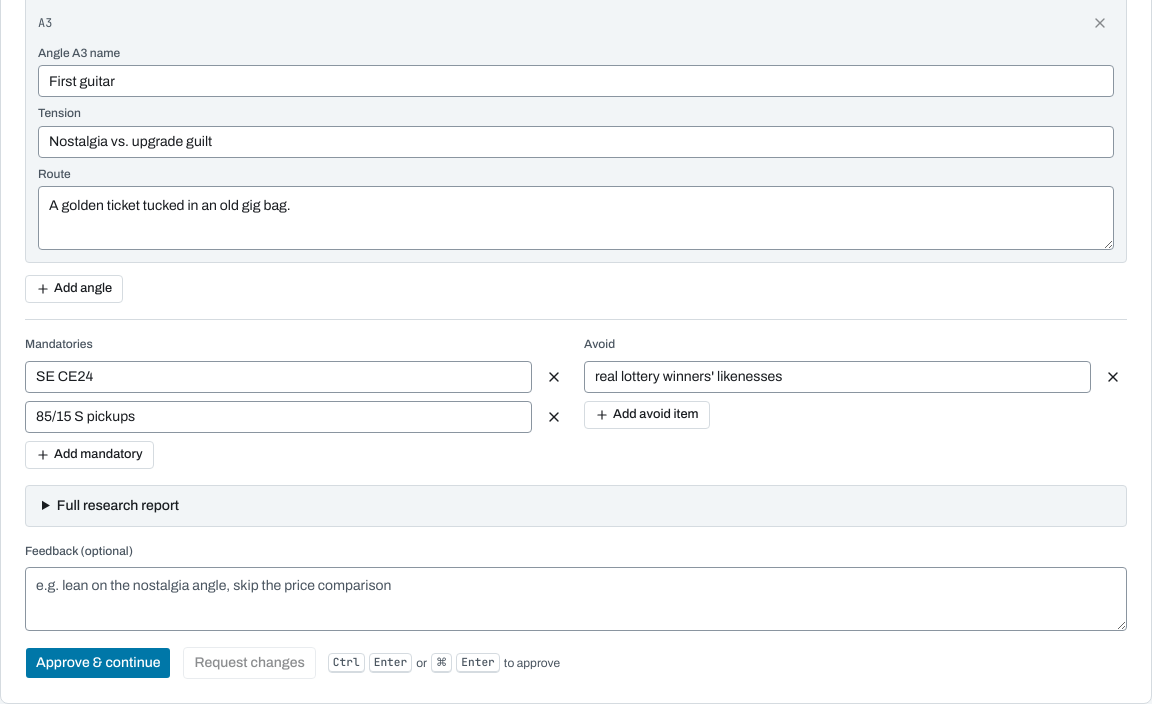
it: checkpoint 1: unchanged briefs, rejected resumes › approves an unchanged brief even when it would fail validation
(page scrolled)
Click the button "Approve & continue": (98, 663) [25,647,171,679]
(page scrolled)
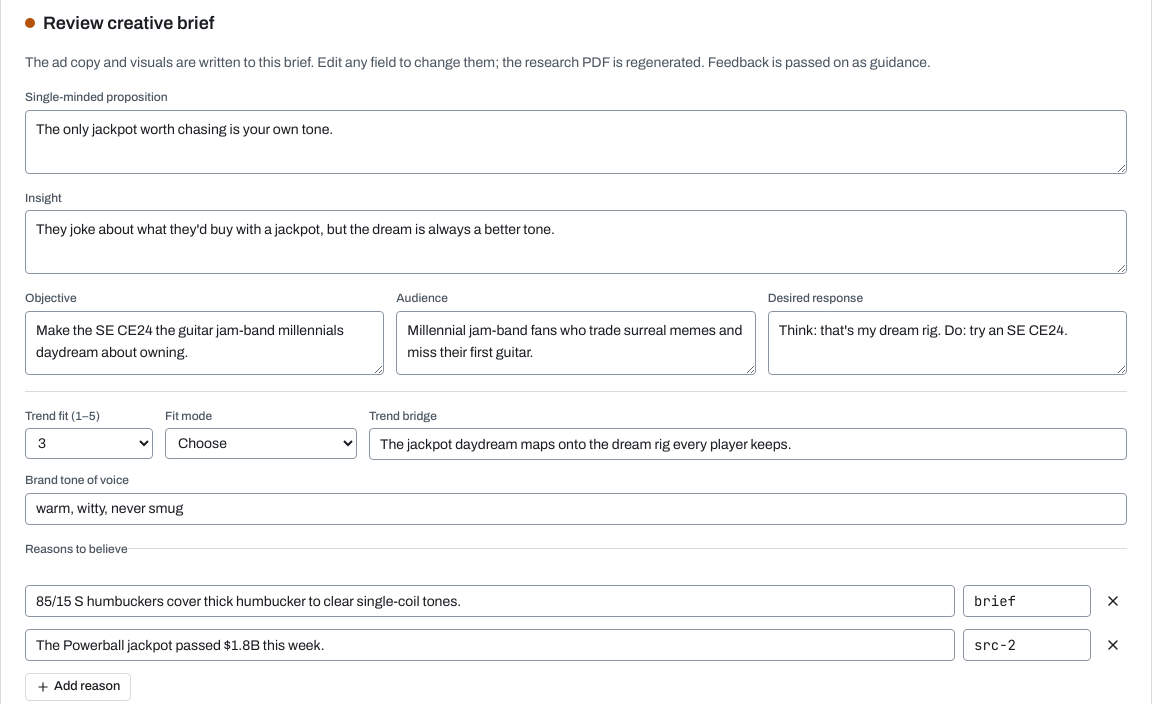
Replace the text in the text box labelled "Insight" with "New insight": (576, 242) [25,210,1127,274]
(page scrolled)
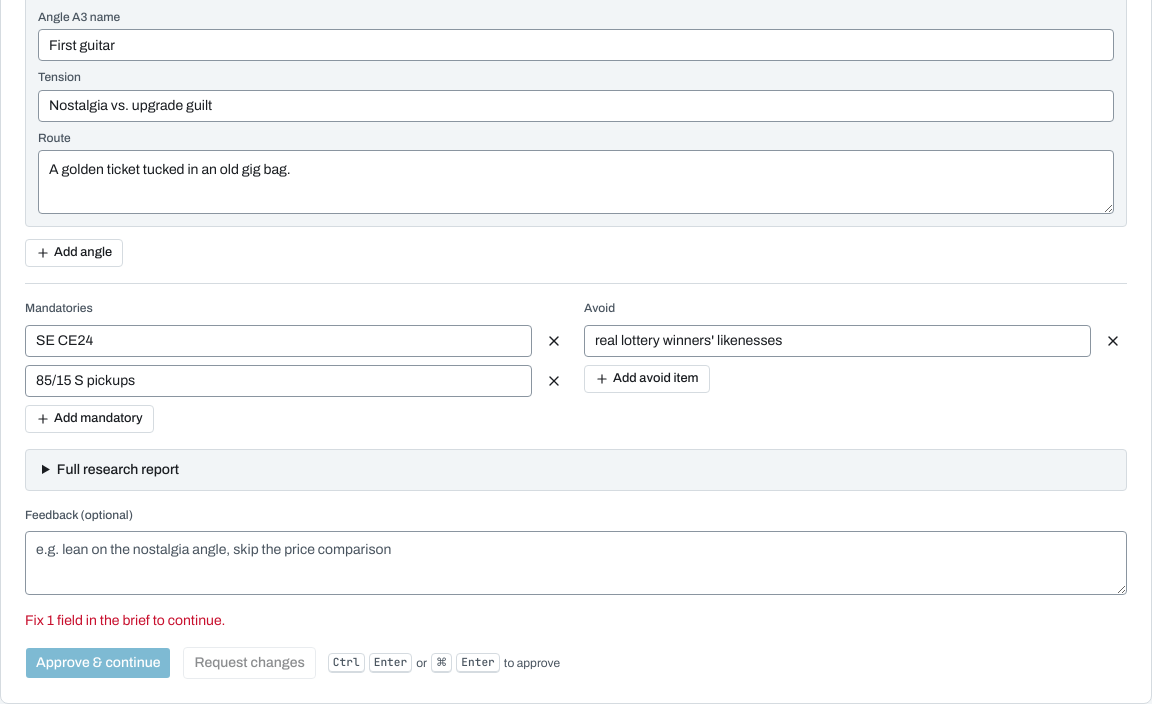
Check: the button "Approve & continue" is disabled, box [25,647,171,679]
